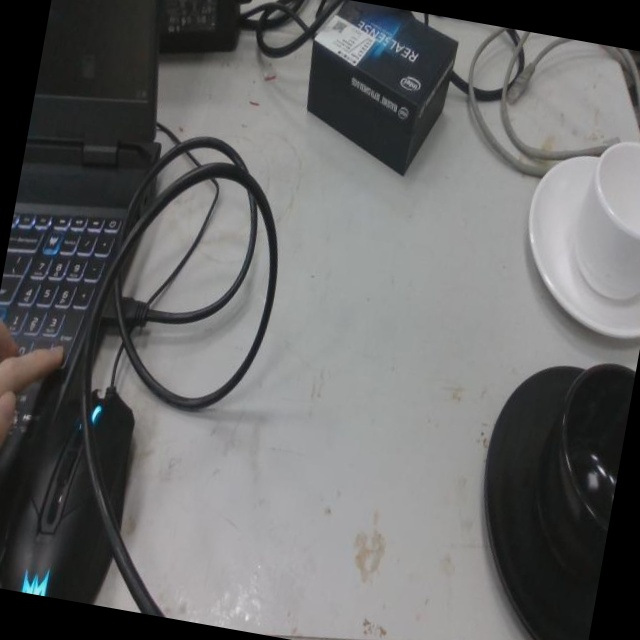black: (475, 345, 610, 640)
white: (523, 128, 640, 337)
